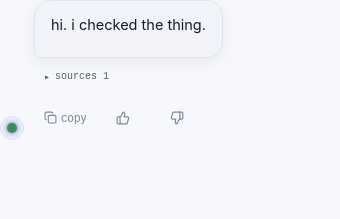
Test: ChatMessage source evidence block › renders sources collapsed and keeps receipts inspectable on expand
The image size is (340, 219).
Expected: the text "2010 Ridgeline Service Manual" is not shown
Click the button "▸ sources 1".
click(77, 77)  # box [40,61,113,93]
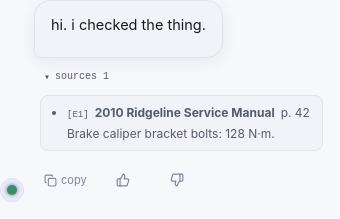
Now the text "[E1]" is shown, box [67,110,89,120]
Now the text "2010 Ridgeline Service Manual" is shown, box [95,105,275,120]
Now the text "p. 42" is shown, box [281,105,310,120]
